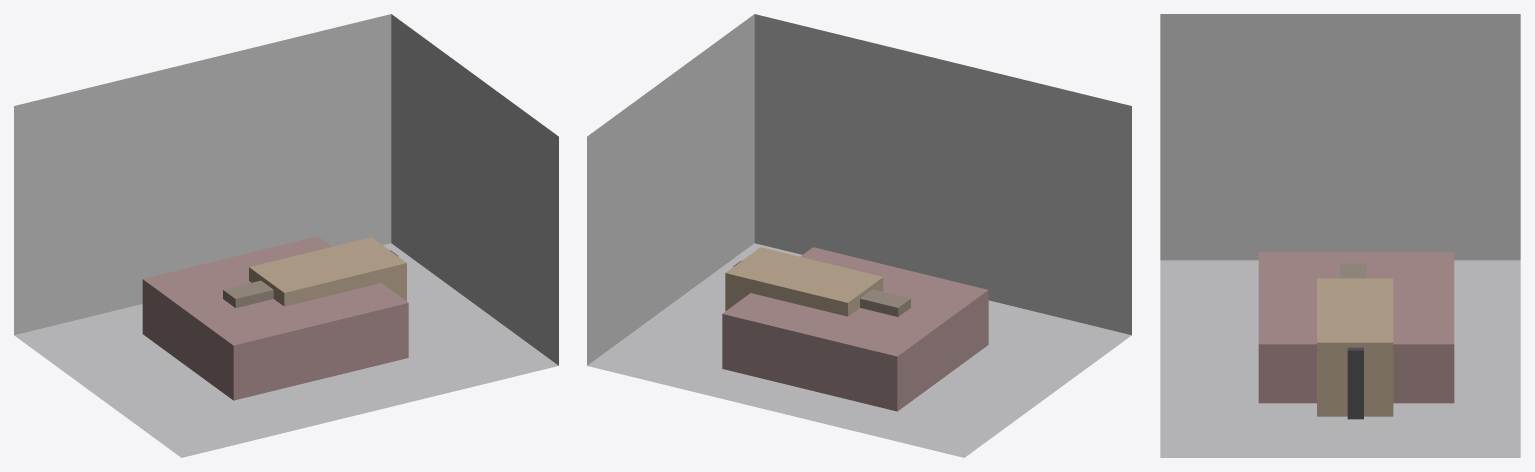
Rendered from optimised_layout.glb.
The picture shows the model from 3 angles, left to right: view 1: azimuth 30°, elevation 25°; view 2: azimuth 150°, elevation 25°; view 3: azimuth 270°, elevation 25°; orthographic projection. The views are drawn at different scales.
Visible parts, largest first — view 1: room, bed, desk, suitcase; view 2: room, bed, desk, suitcase; view 3: room, bed, desk, tv, suitcase.
Part boxes in pixels (x1=…): room: x1=14, y1=14, x2=558, y2=457; bed: x1=142, y1=236, x2=408, y2=400; desk: x1=249, y1=237, x2=406, y2=306; suitcase: x1=223, y1=280, x2=273, y2=307; room: x1=587, y1=14, x2=1131, y2=457; bed: x1=722, y1=247, x2=988, y2=411; desk: x1=725, y1=247, x2=883, y2=316; suitcase: x1=860, y1=289, x2=910, y2=316; room: x1=1160, y1=14, x2=1520, y2=457; bed: x1=1258, y1=252, x2=1454, y2=403; desk: x1=1317, y1=278, x2=1393, y2=416; tv: x1=1347, y1=347, x2=1363, y2=419; suitcase: x1=1340, y1=263, x2=1366, y2=278.
Bounding box in the file's own units: 4.31 × 2.5 × 3.31.
